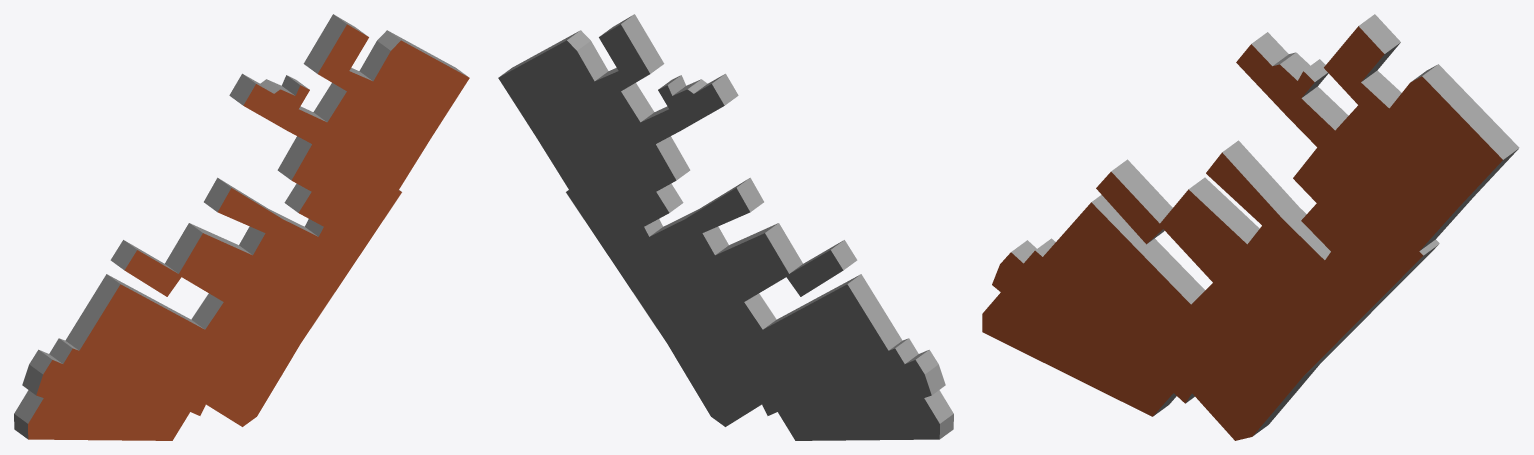
Rendered from construction_0903_assumed_A_Casa_h6m.obj.
3 renders of one model, left to right at view 1: azimuth 30°, elevation 25°; view 2: azimuth 150°, elevation 25°; view 3: azimuth 330°, elevation 25°, orthographic. The views are drawn at different scales.
Parts seen in each view (by area): view 1: construction_0903_assumed_A_Casa; view 2: construction_0903_assumed_A_Casa; view 3: construction_0903_assumed_A_Casa.
Boxes of the visible parts, <box> form: construction_0903_assumed_A_Casa: <box>14,14,469,440</box>; construction_0903_assumed_A_Casa: <box>498,14,953,440</box>; construction_0903_assumed_A_Casa: <box>982,14,1519,440</box>.
Bounding box in the file's own units: 109 × 89.33 × 6.
